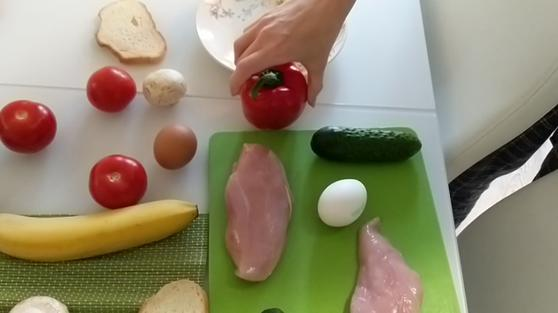banana: (1, 193, 200, 262)
champignon: (138, 62, 189, 108)
chicken_fillet: (217, 135, 302, 285), (343, 213, 433, 313)
cucumber: (302, 120, 431, 168)
egg: (315, 178, 370, 226), (153, 119, 197, 172)
pepper: (238, 52, 317, 133)
tomato: (89, 155, 147, 210), (1, 99, 60, 153), (84, 65, 142, 113)
white_bread: (86, 1, 168, 60)
